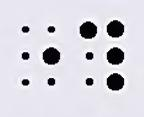dot_5: (22, 26, 60, 86)
two_cell_non_alphabet_sabi: (79, 21, 124, 91)
